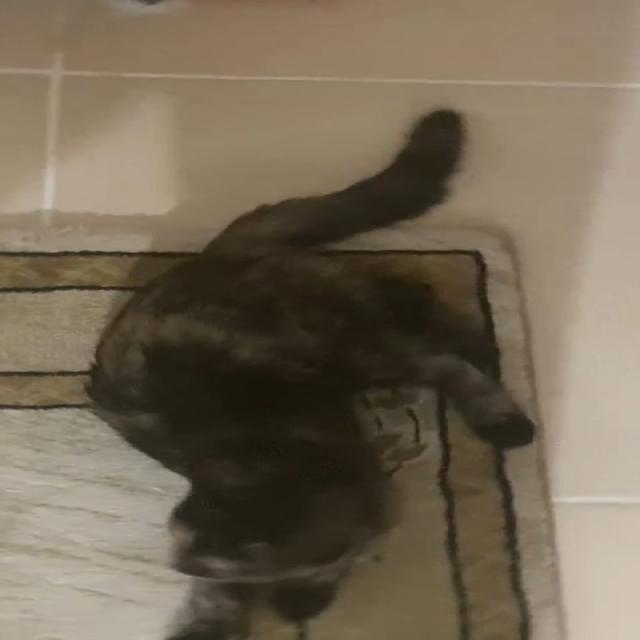authorized: (82, 106, 538, 638)
